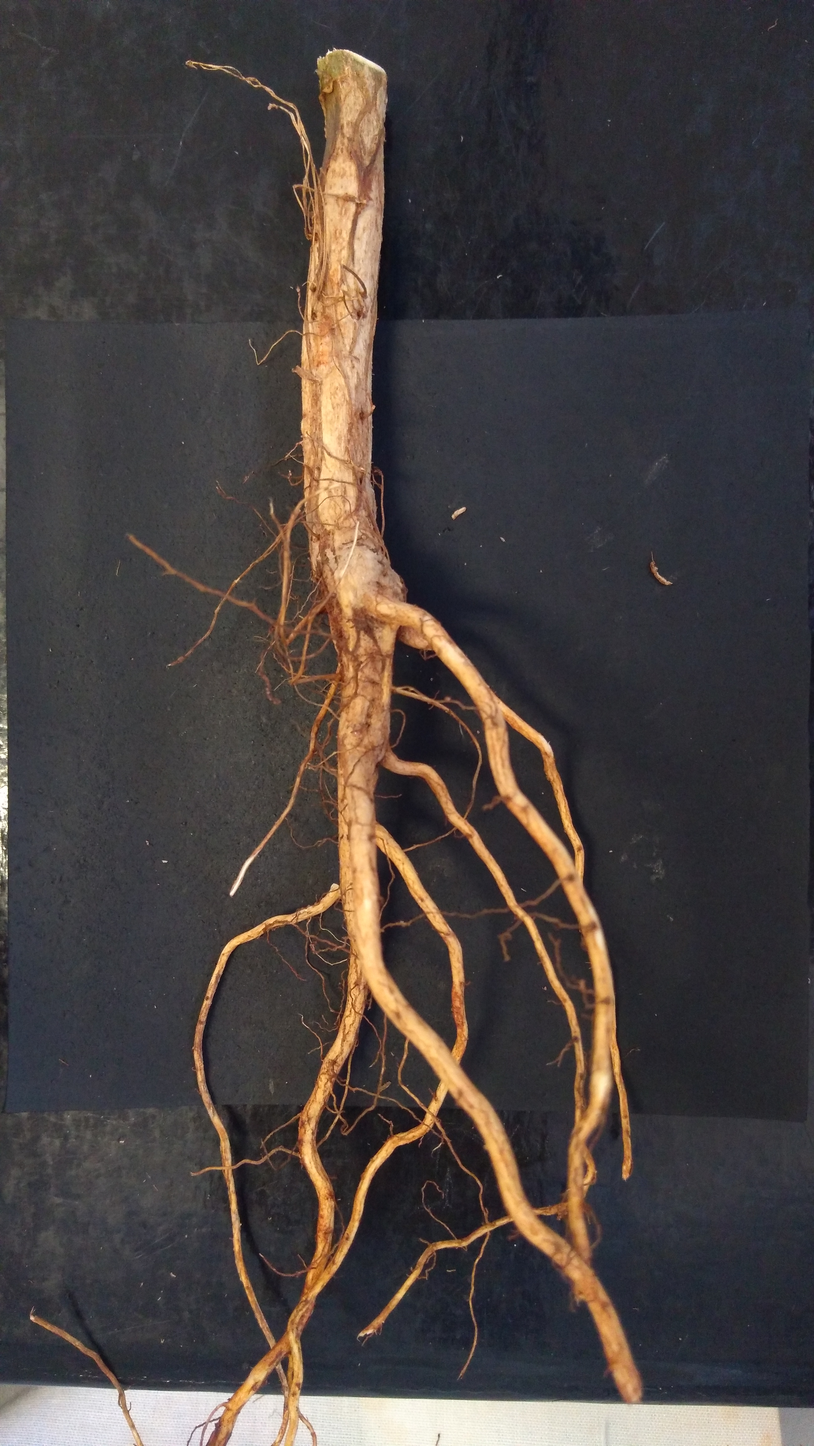nodule: (396, 624, 437, 652)
